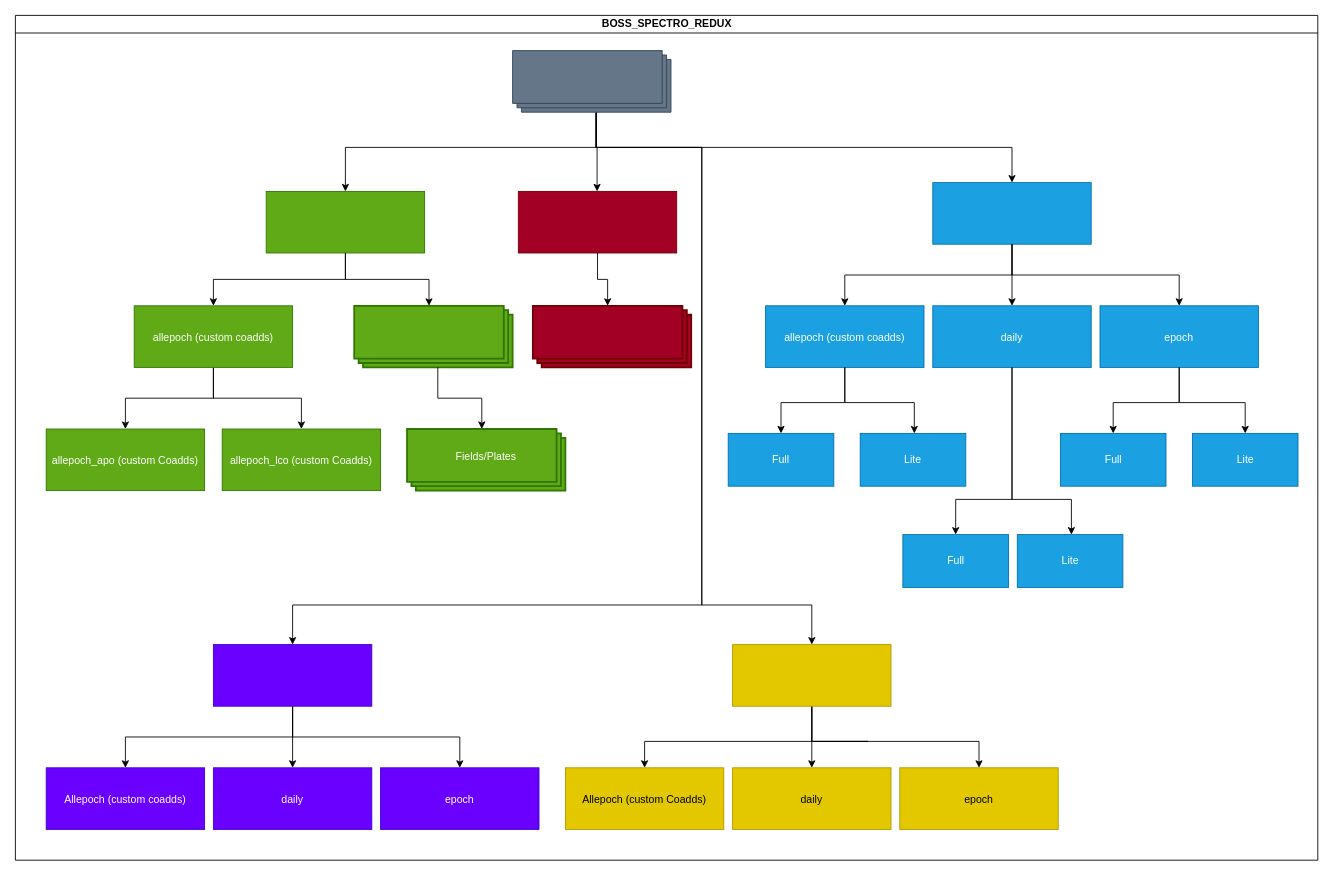
This 1333x876 diagram has some shape labels left out. The shapes that lost their labels are listed below. From the top down, each one's centre as x and y in pixels, then its label:
At (x=591, y=81): "RUN2D".
At (x=345, y=222): "fields".
At (x=597, y=222): "trace".
At (x=1011, y=213): "spectra".
At (x=433, y=336): "fieldgrps (fieldid/1000) ex 108XXX".
At (x=612, y=336): "mjd".
At (x=292, y=675): "summary".
At (x=811, y=675): "images".
